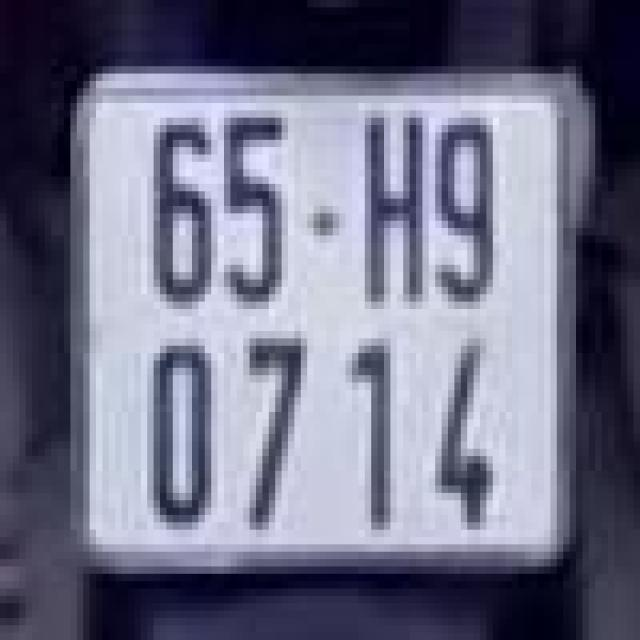0: (132, 331, 215, 537)
1: (336, 327, 413, 541)
4: (422, 331, 512, 537)
5: (224, 106, 294, 312)
6: (150, 118, 221, 324)
7: (230, 328, 314, 534)
9: (432, 106, 502, 312)
H: (358, 99, 429, 320)
